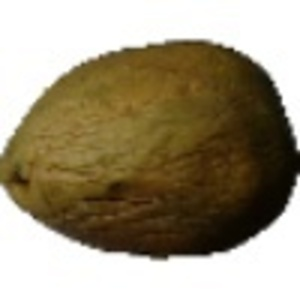mamão: (3, 36, 294, 264)
